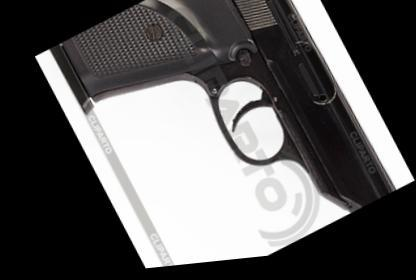pistol: (44, 0, 401, 273)
